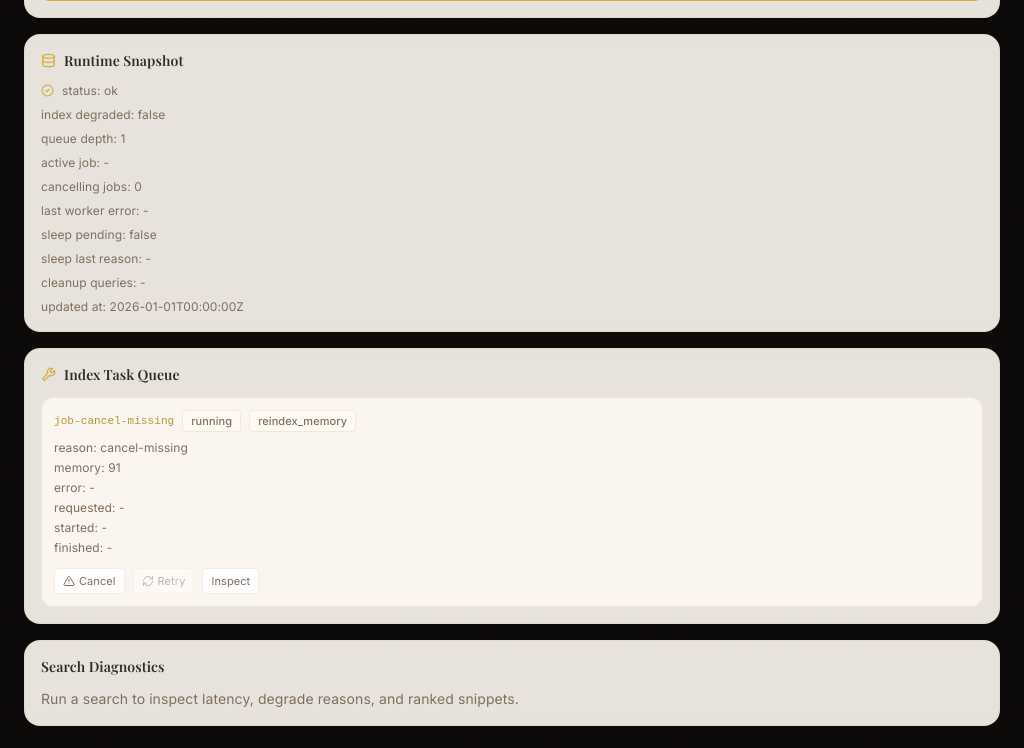
ObservabilityPage › shows explicit message when cancel returns 404
The width and height of the screenshot is (1024, 748).
(page scrolled)
Expected: the text "job-cancel-missing" is shown, [54,414,174,426]
Click the button "Cancel": (89, 580) [54,568,125,594]
(page scrolled)
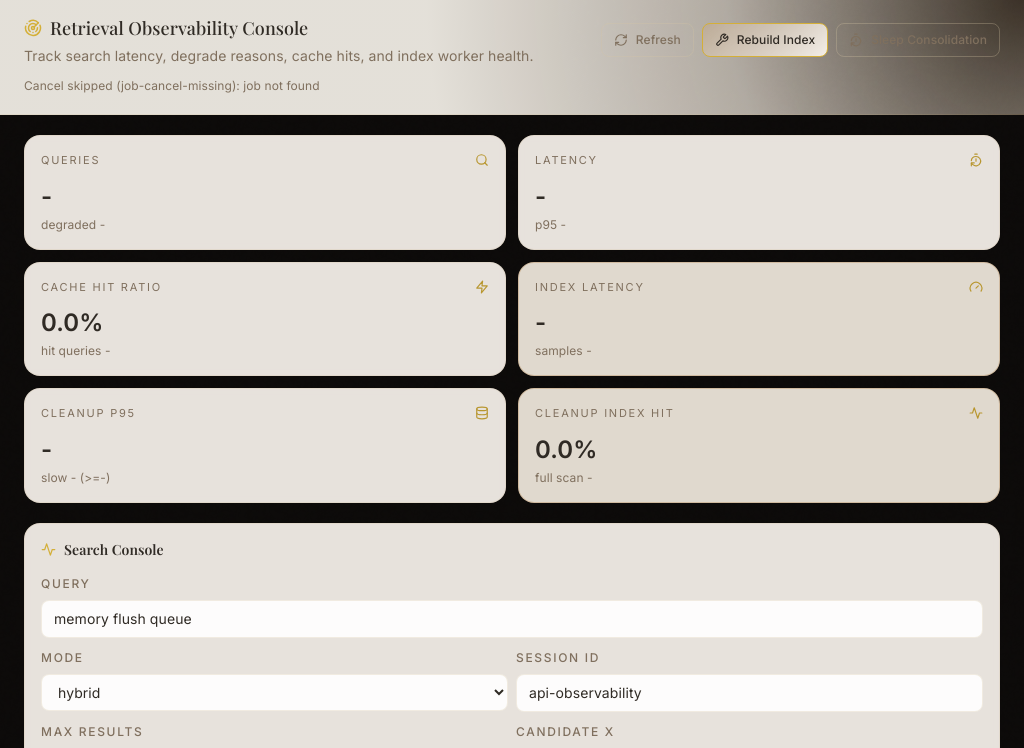
Expected: the text "Cancel skipped (job-cancel-missing): job not found" is shown, [24,78,320,93]
